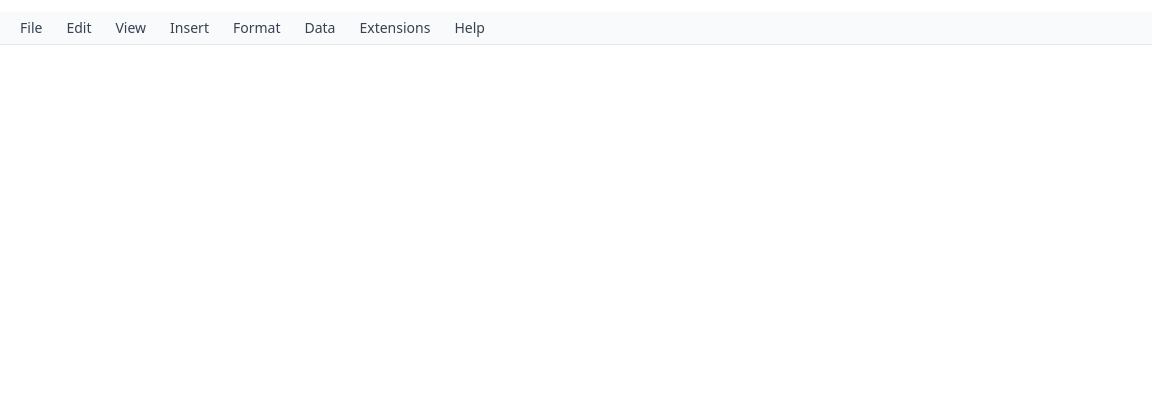
Test: MenuBar › File menu shows New, Open…, Save, Save As… items
Click the button "File" at (31, 28), box top-left (8, 14), bottom-right (54, 42)
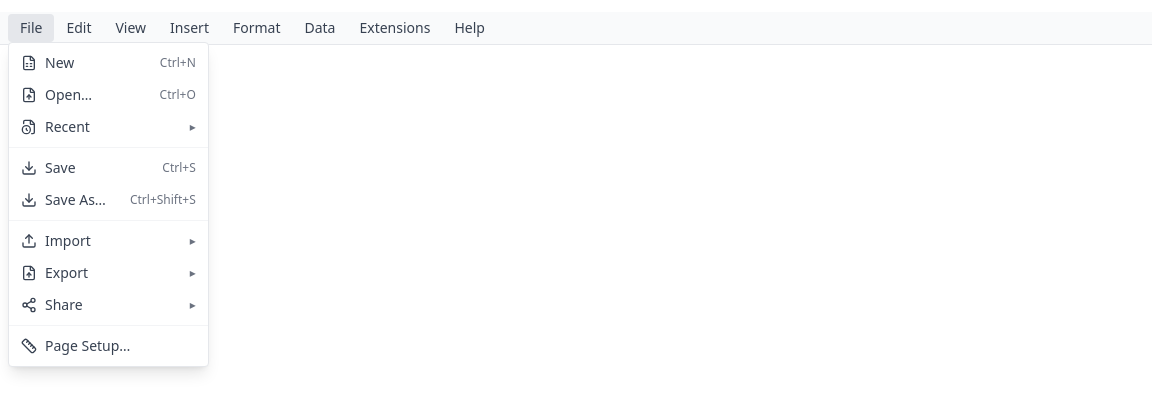
Expected: the text "New" is shown, top-left (45, 53), bottom-right (74, 72)
Expected: the text "Open…" is shown, top-left (45, 85), bottom-right (92, 104)
Expected: the text "Save" is shown, top-left (45, 158), bottom-right (76, 177)
